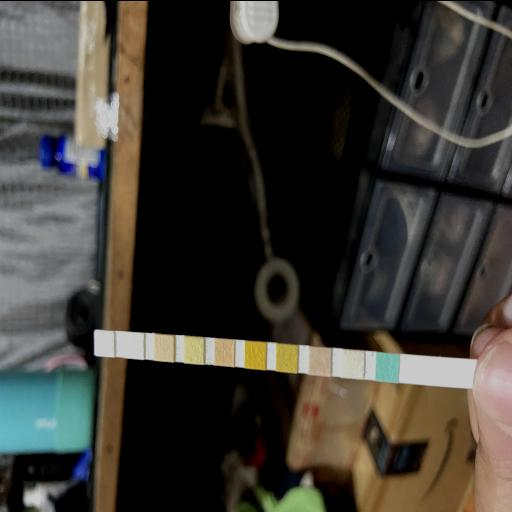Bilirubin: (344, 350, 364, 376)
Blood: (245, 341, 265, 367)
Glucose: (376, 353, 398, 379)
Ketone: (310, 347, 330, 373)
Leukocytes: (96, 331, 114, 353)
Nitrite: (126, 333, 144, 356)
Protein: (186, 336, 204, 362)
SpGravity: (277, 344, 296, 370)
Urobilinogen: (156, 335, 174, 359)
pH: (216, 340, 234, 364)
strip: (94, 328, 473, 387)
